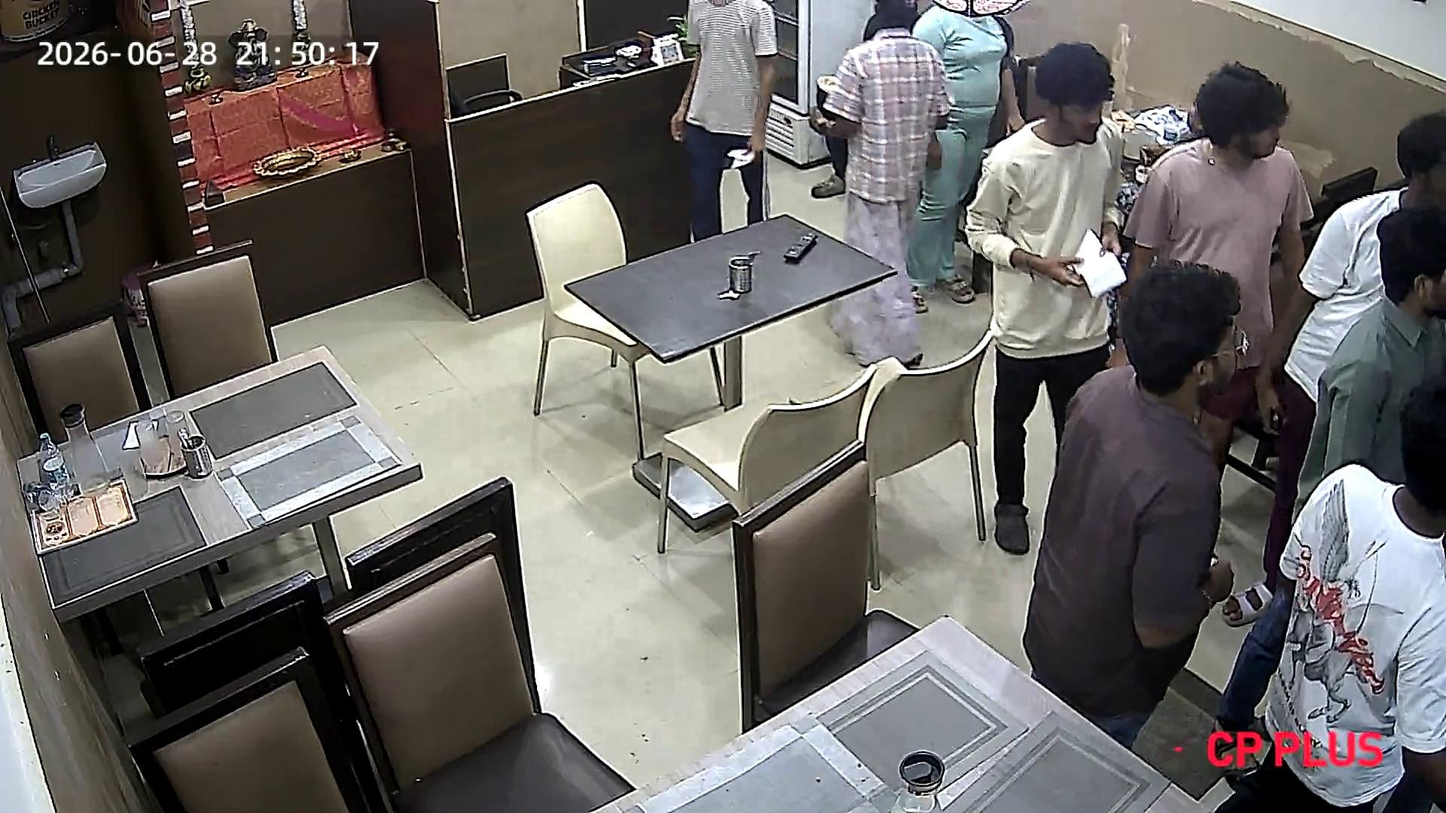clean: (639, 600, 1191, 813), (564, 210, 898, 360)
dirty: (13, 329, 426, 608)
